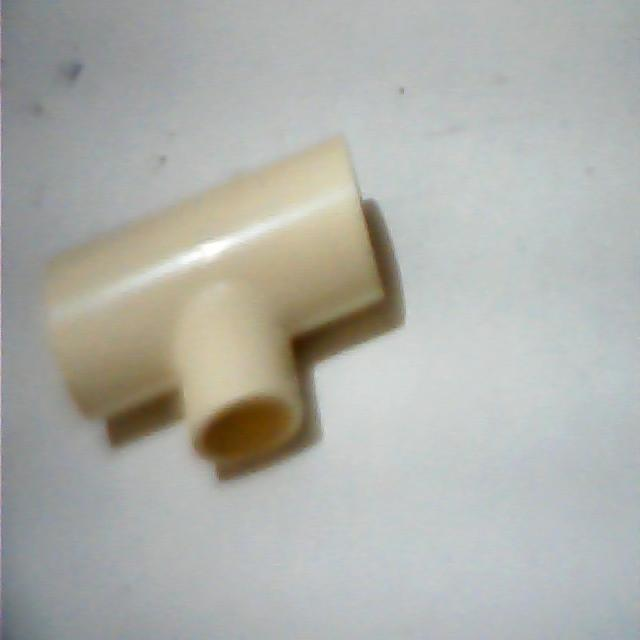T Joint: (44, 135, 389, 480)
